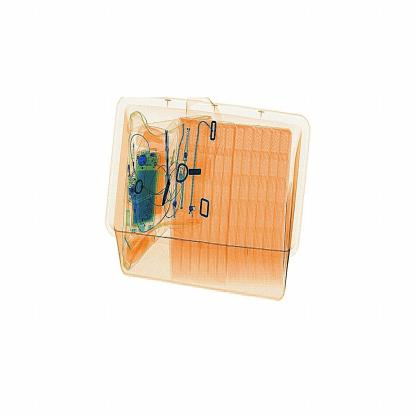knife: (164, 129, 174, 180)
